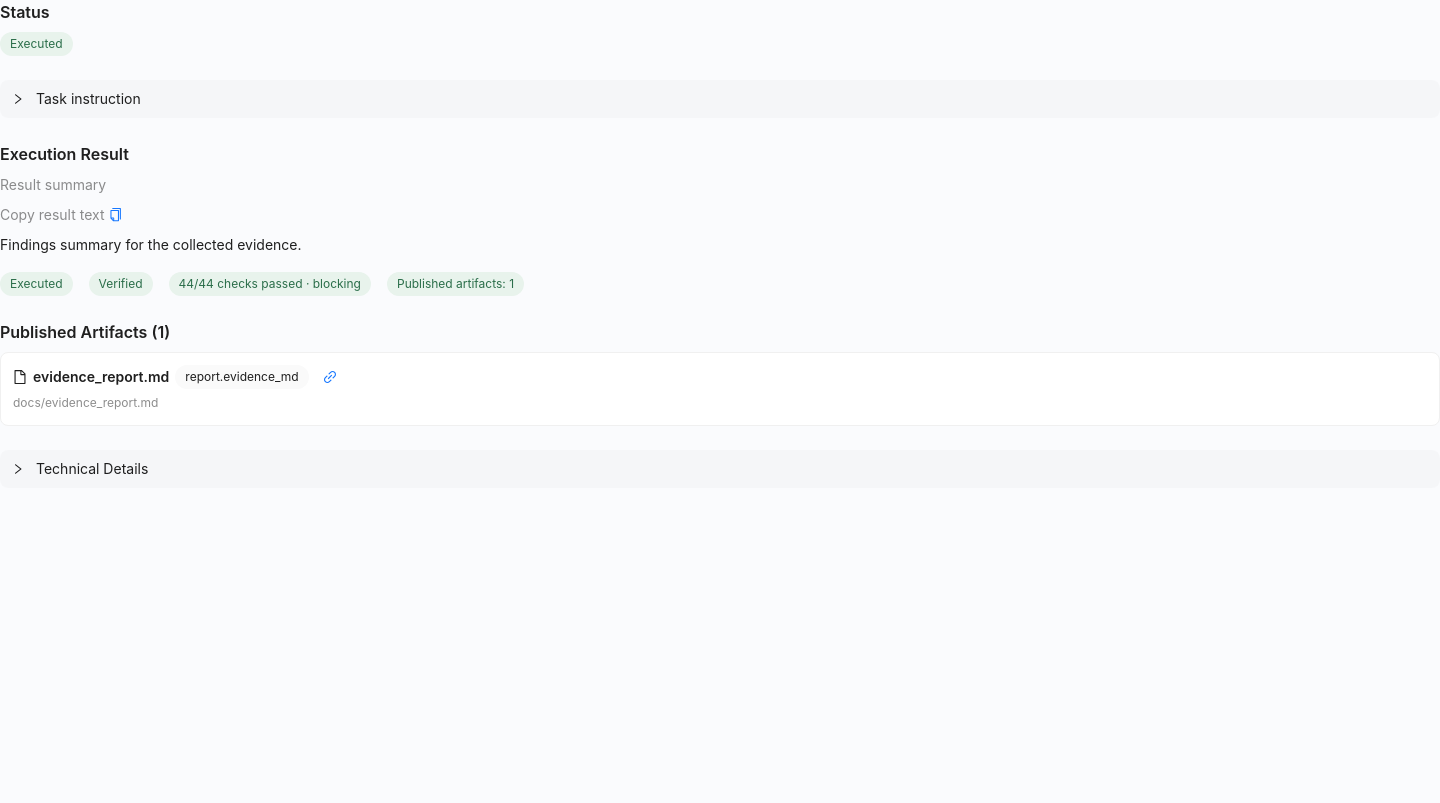
Test: TaskDrawerContent › moves technical details into a single collapsed panel
The image size is (1440, 803).
Click the button "Technical Details": (80, 469) [12,460,148,477]
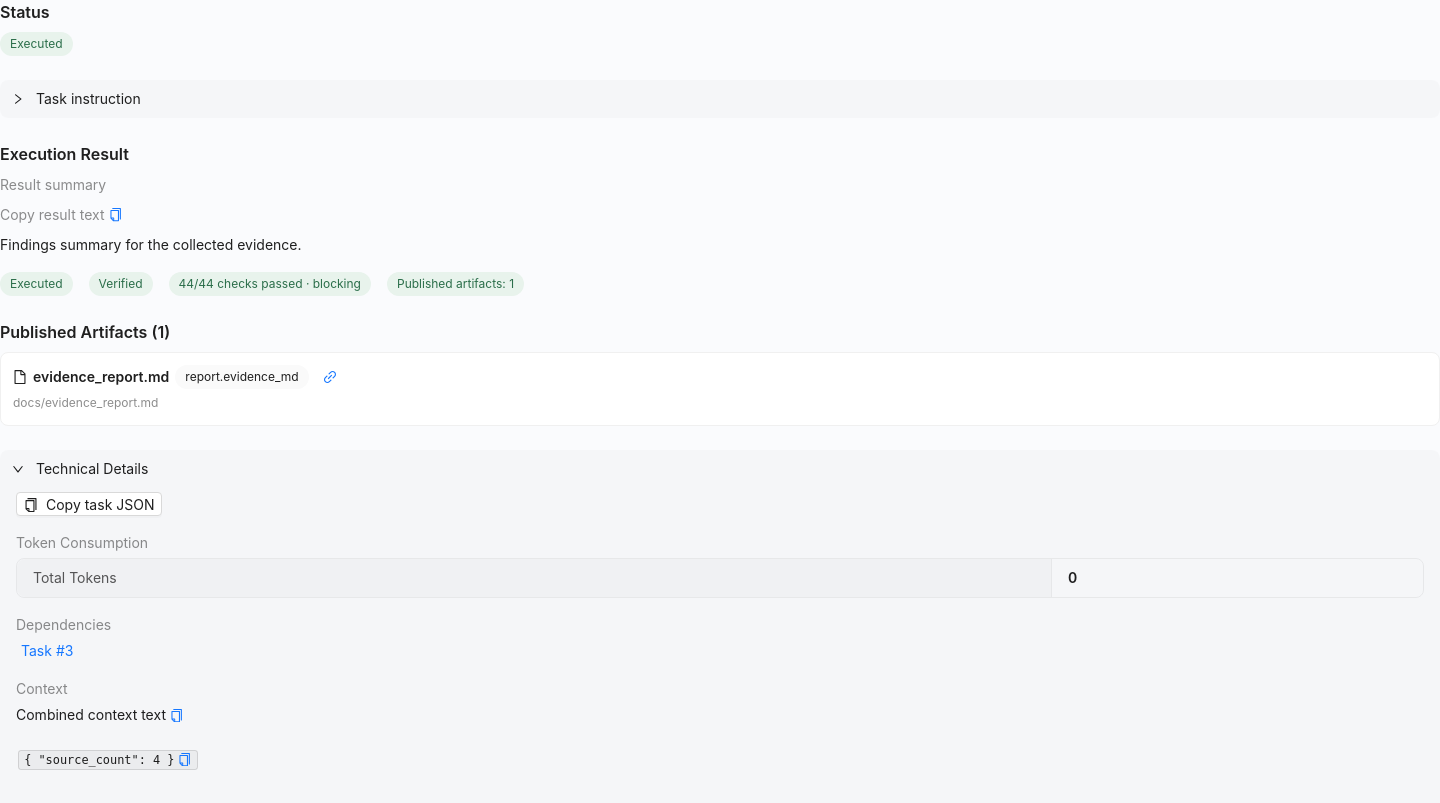
Expected: the text "Token Consumption" is shown, [16,534,148,551]
Expected: the text "Dependencies" is shown, [16,616,111,633]
Expected: the text "Task #3" is shown, [21,642,73,659]
